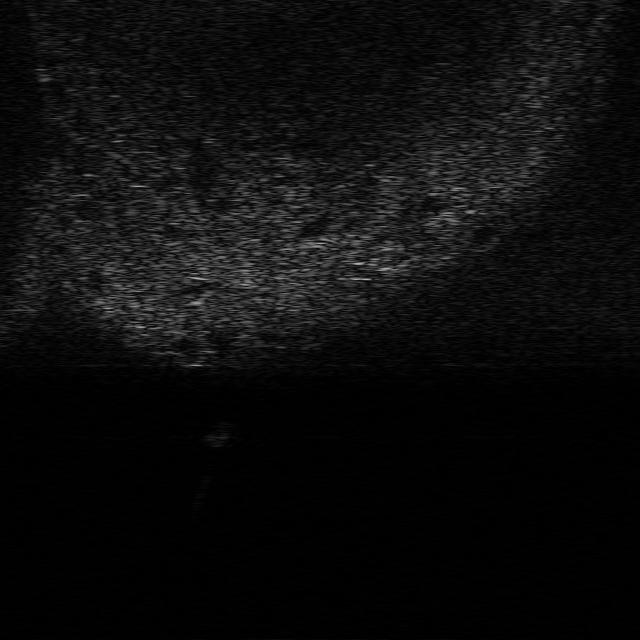cylinder: (200, 420, 235, 446)
